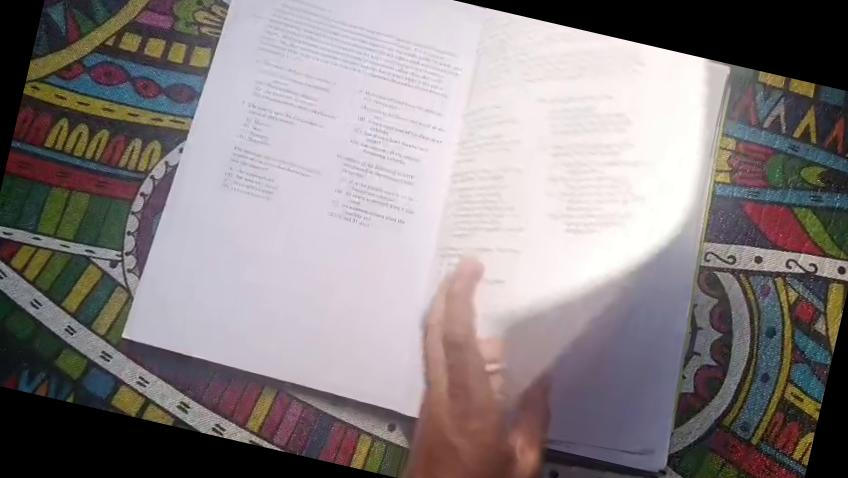Kertas: (125, 0, 484, 415), (151, 0, 499, 405), (442, 13, 727, 471)
